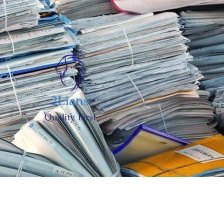book: (116, 132, 223, 178)
